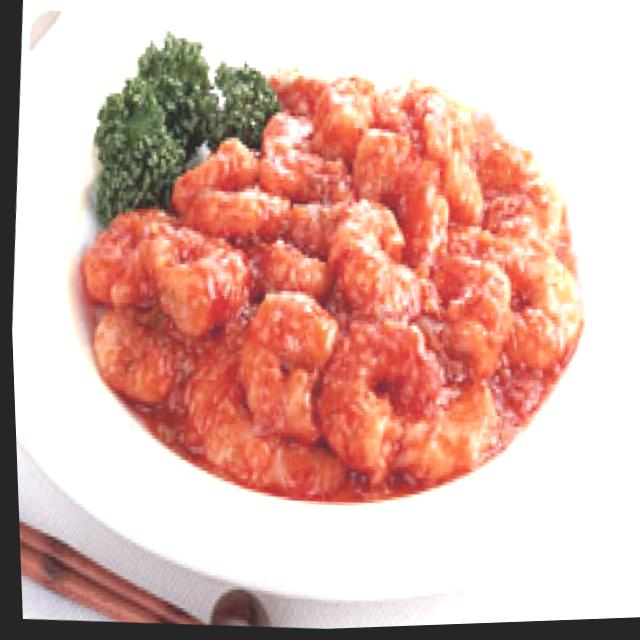熟制海鲜: (15, 0, 640, 588)
